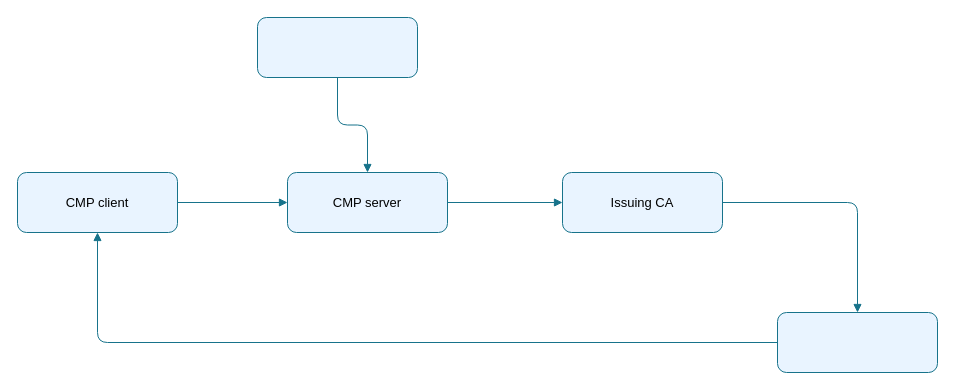
This 955x390 diagram has some shape labels left out. The box of each missing label's shape, as (x1, y1, x2, y2) in pixels:
Enrollment template: (256, 16, 418, 78)
Issued certificate: (776, 312, 938, 372)
